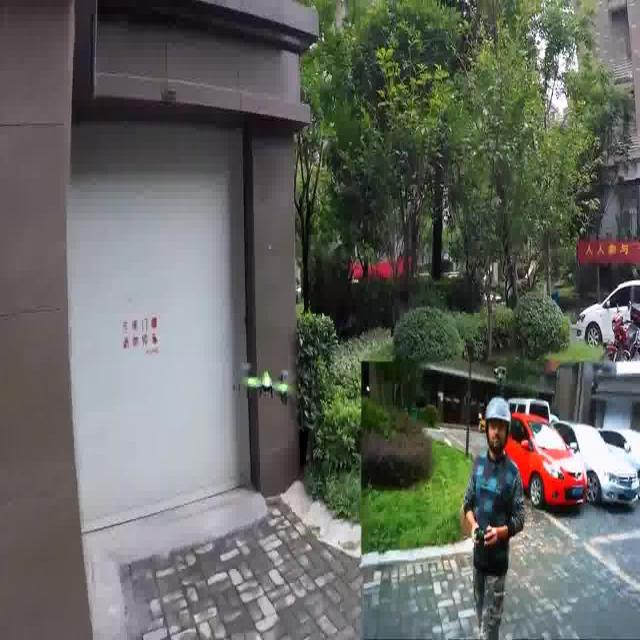drone: (220, 350, 302, 430)
